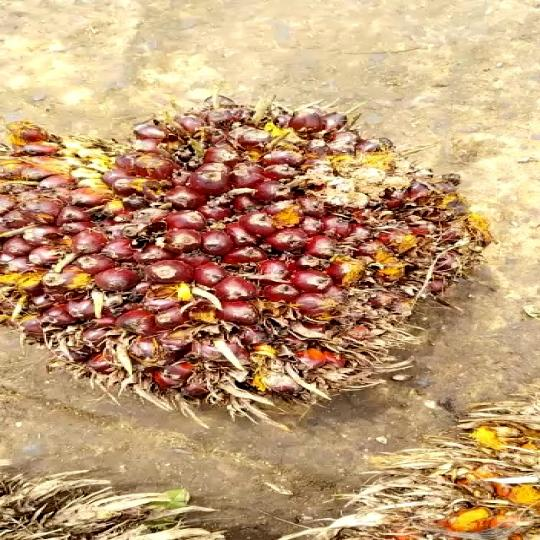masak: (0, 94, 491, 418)
